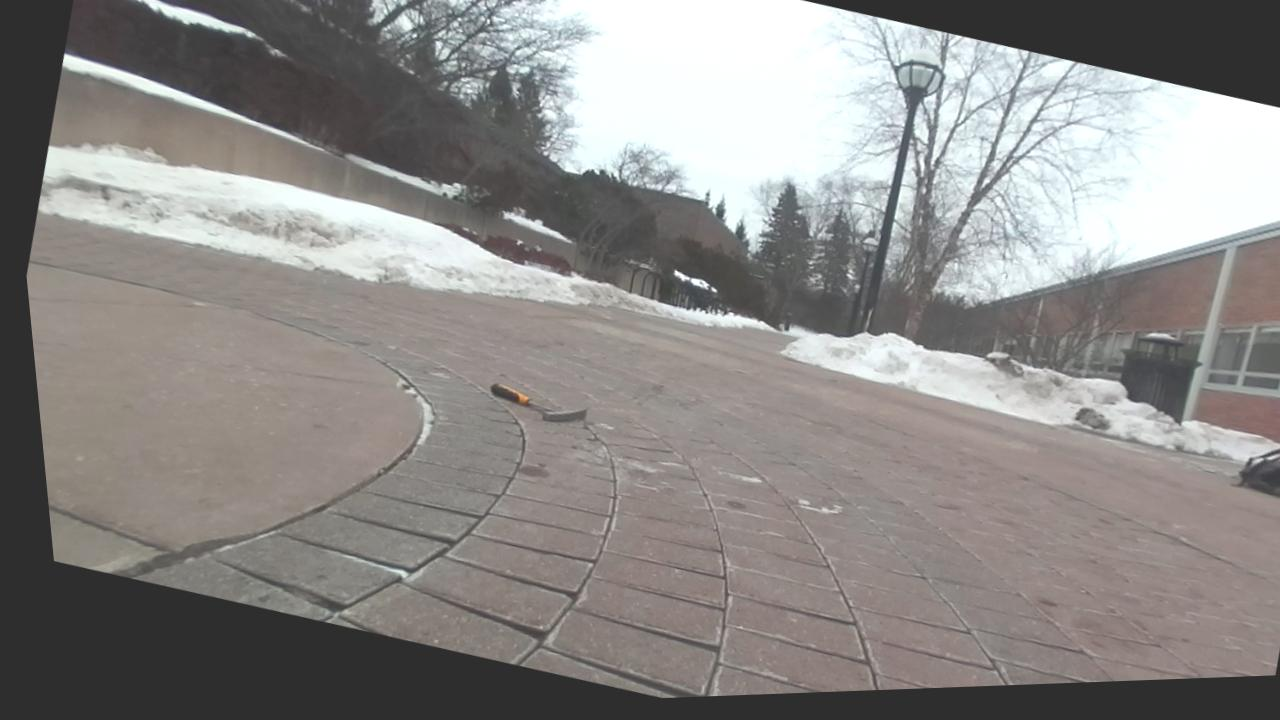pick: (490, 384, 586, 421)
